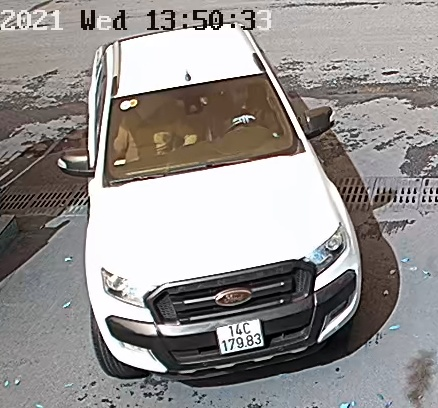vehicle plate: (203, 318, 268, 357)
